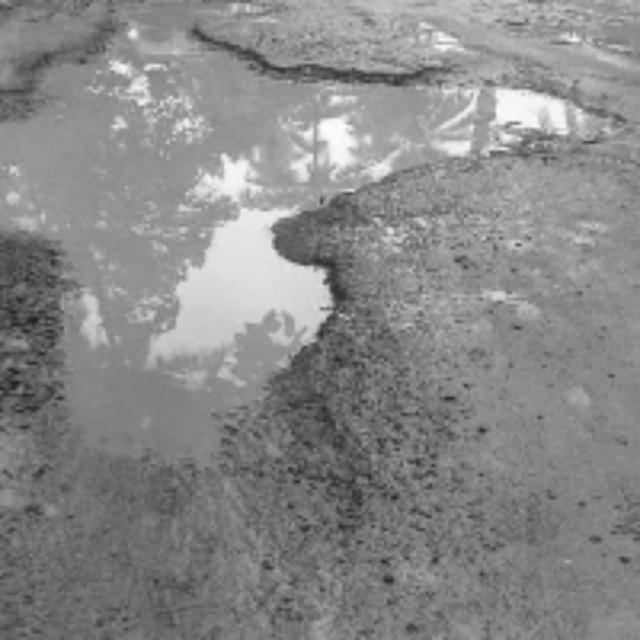Pothole: (0, 32, 373, 417), (351, 21, 640, 194)
